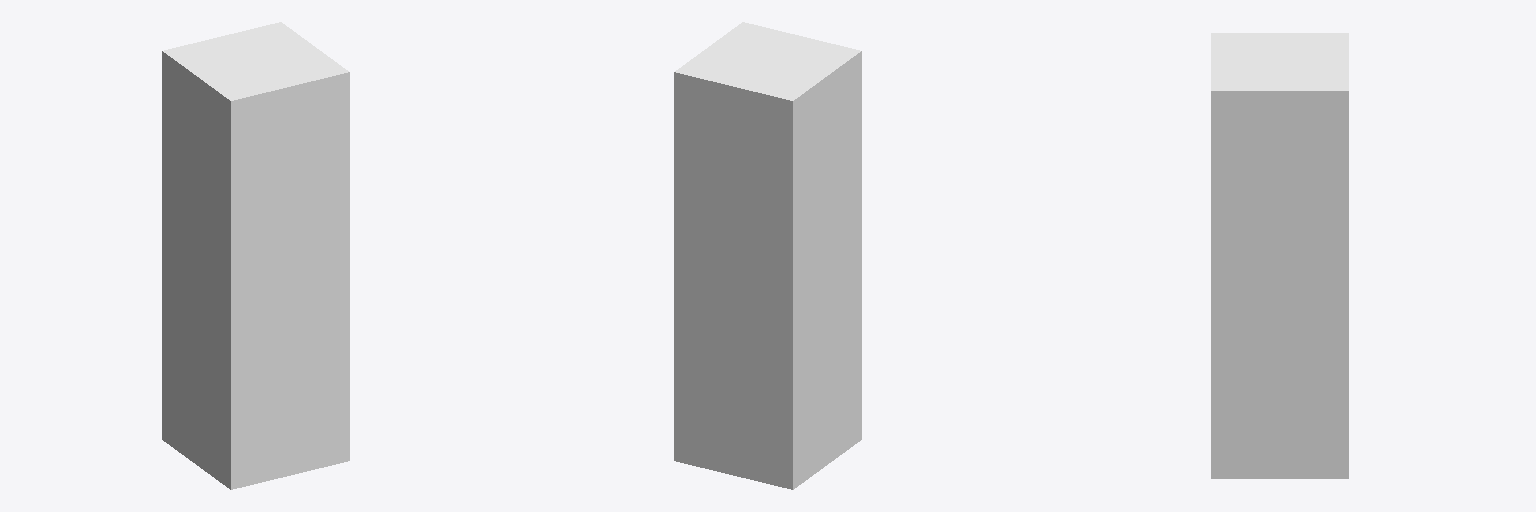
File: GroundSakuraStraight.obj
The picture shows the model from 3 angles: view 1: azimuth 30°, elevation 25°; view 2: azimuth 150°, elevation 25°; view 3: azimuth 270°, elevation 25°; orthographic projection.
Visible parts, largest first — view 1: object 1; view 2: object 1; view 3: object 1.
Boxes of the visible parts, box(x1,y1,x2,y2) form: object 1: box(162, 22, 349, 489); object 1: box(674, 22, 861, 489); object 1: box(1211, 33, 1348, 478).
Size of the model in its own units: 1.6 by 5 by 1.6.